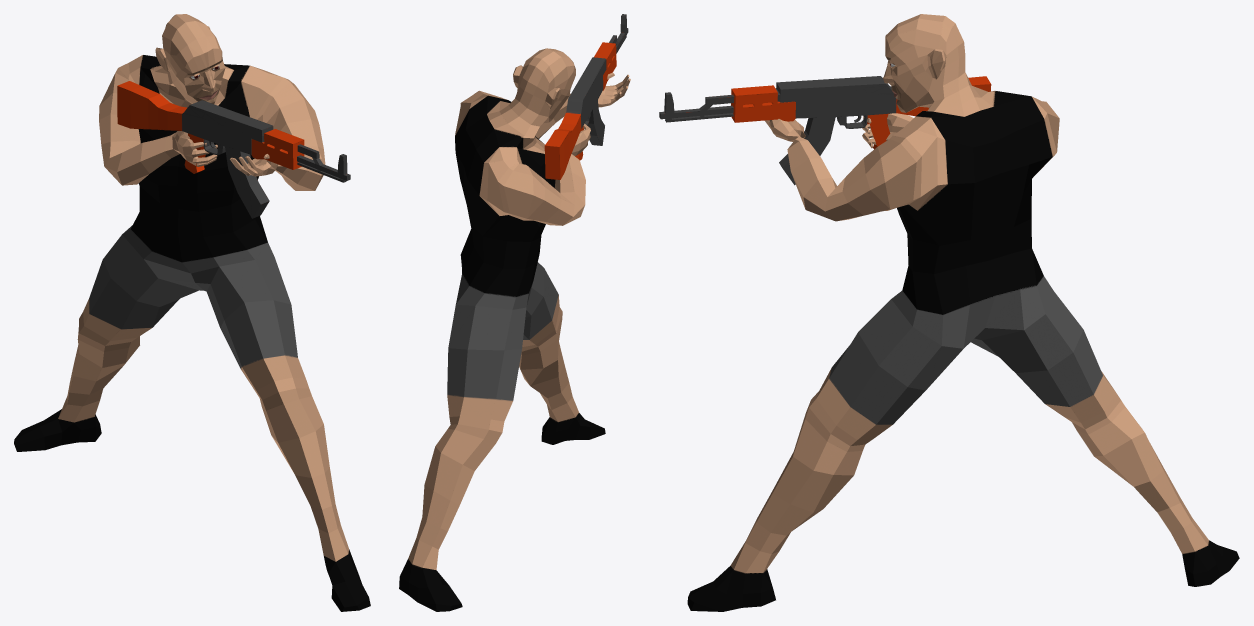
File: PlayerShoot(5).obj
The picture shows the model from 3 angles, left to right: view 1: azimuth 30°, elevation 25°; view 2: azimuth 150°, elevation 25°; view 3: azimuth 270°, elevation 25°; orthographic projection. The views are drawn at different scales.
Visible parts, largest first — view 1: Plane002, Object001; view 2: Plane002, Object001; view 3: Plane002, Object001.
Part boxes in pixels (x1,y1,x2,y2): Plane002: [14, 14, 370, 611]; Object001: [117, 81, 350, 218]; Plane002: [399, 48, 630, 611]; Object001: [544, 14, 628, 179]; Plane002: [687, 14, 1239, 611]; Object001: [659, 76, 991, 185].
Size of the model in its own units: 539 by 1640 by 1547.
